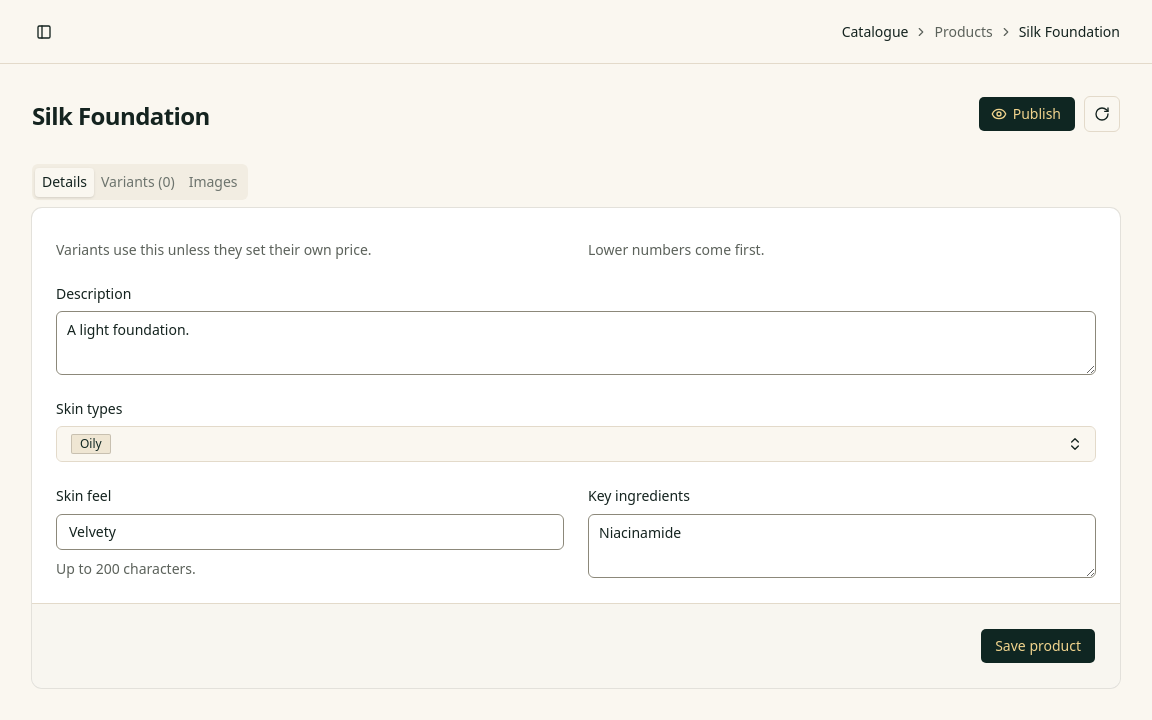
it: product details › starts from the saved product and sends the whole skin-type set
(page scrolled)
Click the dropdown named "Skin types": (91, 444) top-left (56, 426), bottom-right (1096, 462)
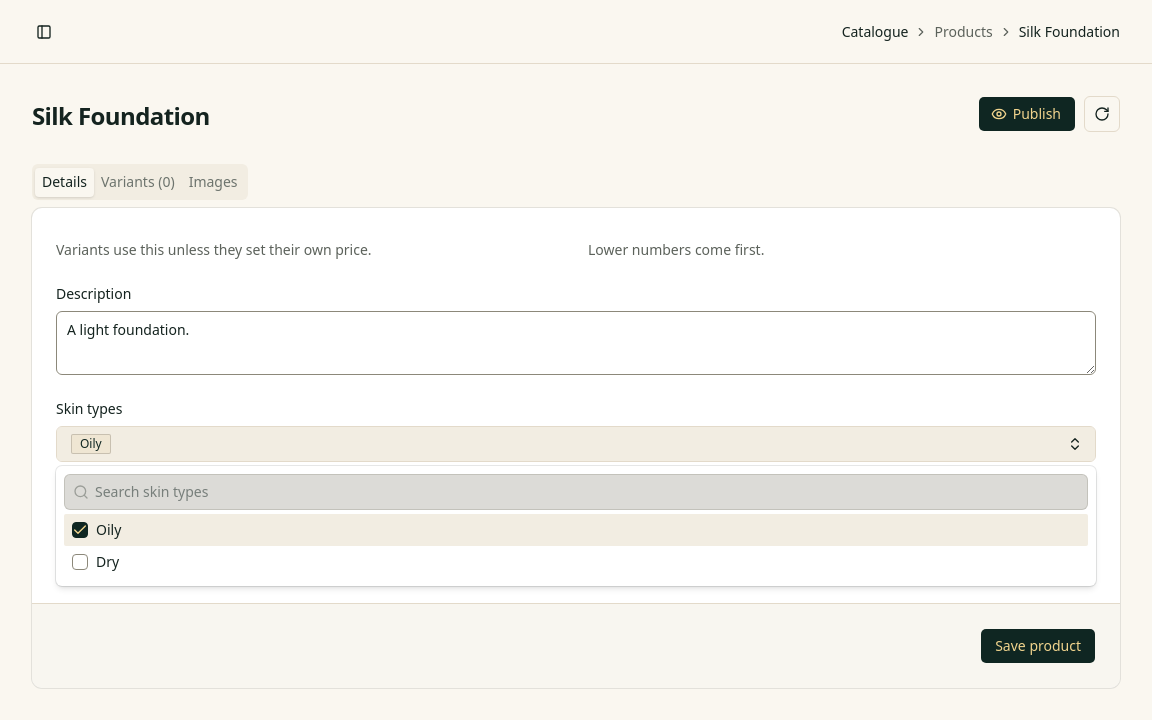
Click the option "Dry": (96, 562) top-left (72, 552), bottom-right (119, 571)
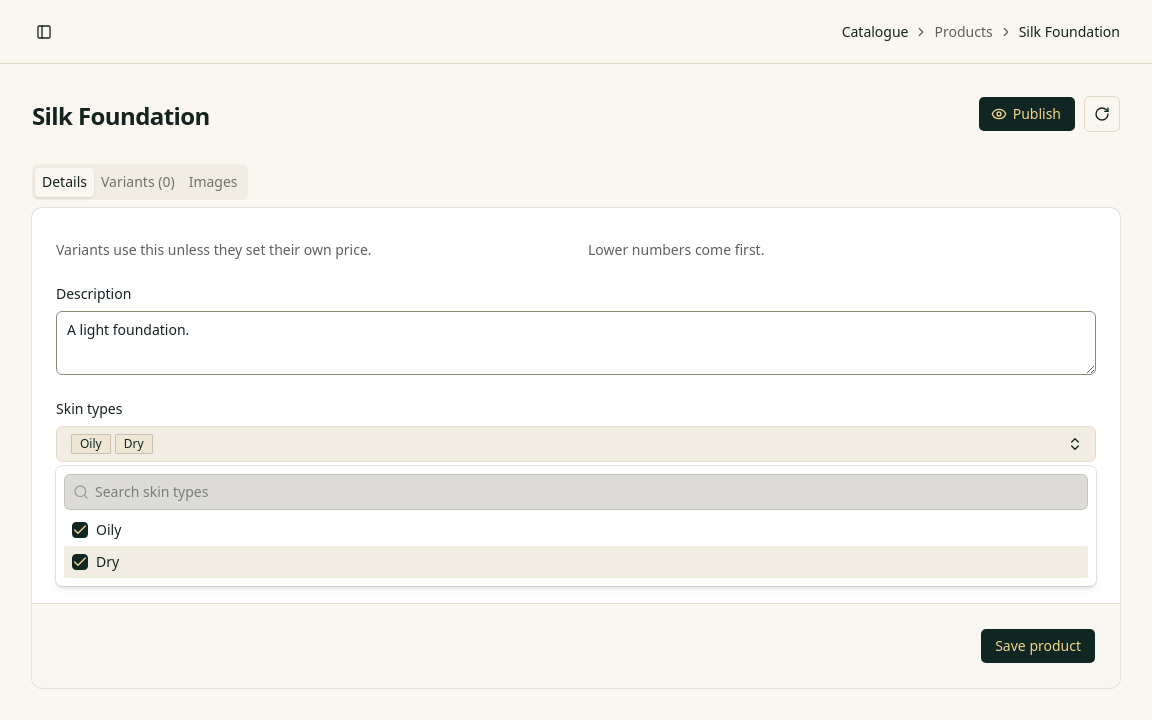
Press Escape
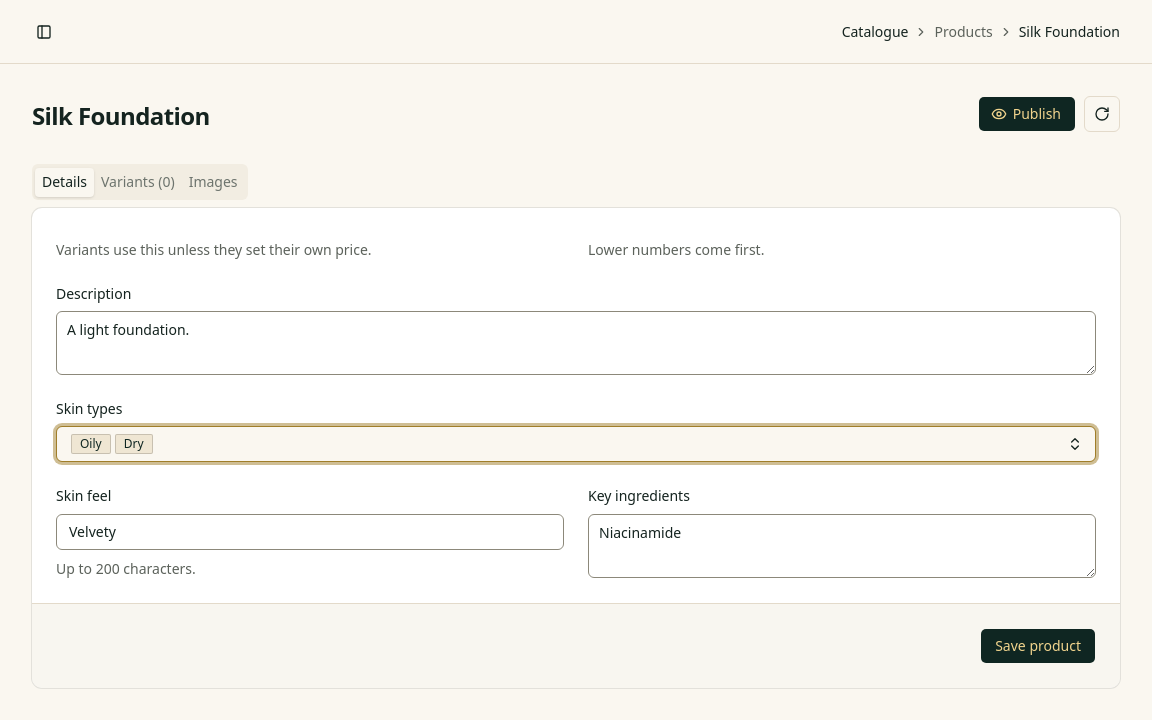
Click the button "Save product": (1038, 646) top-left (980, 628), bottom-right (1096, 664)
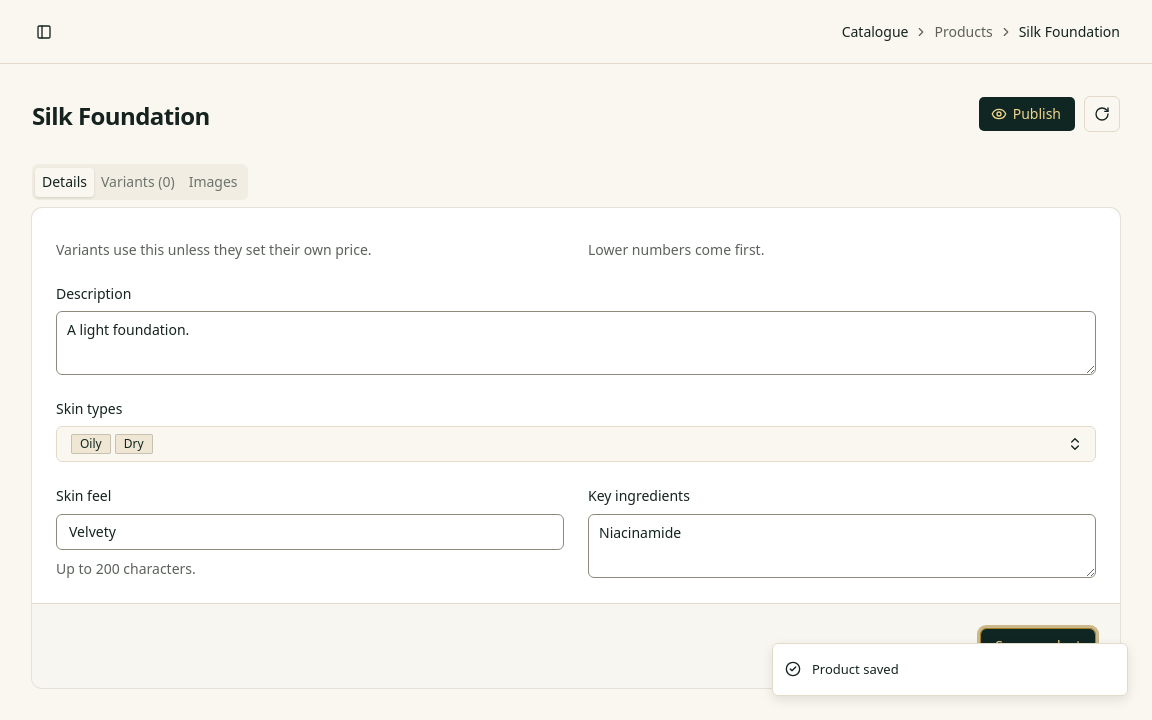
Result: the text "Product saved" is shown at top-left (812, 660), bottom-right (899, 679)
